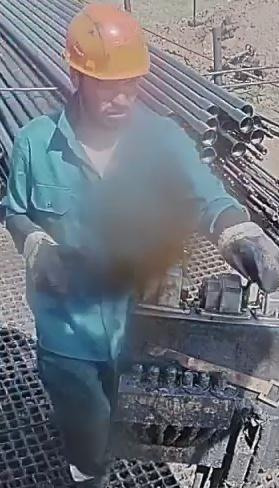gloves: (20, 225, 87, 296), (217, 216, 278, 293)
helmet: (63, 2, 150, 87)
vest: (6, 110, 197, 362)
